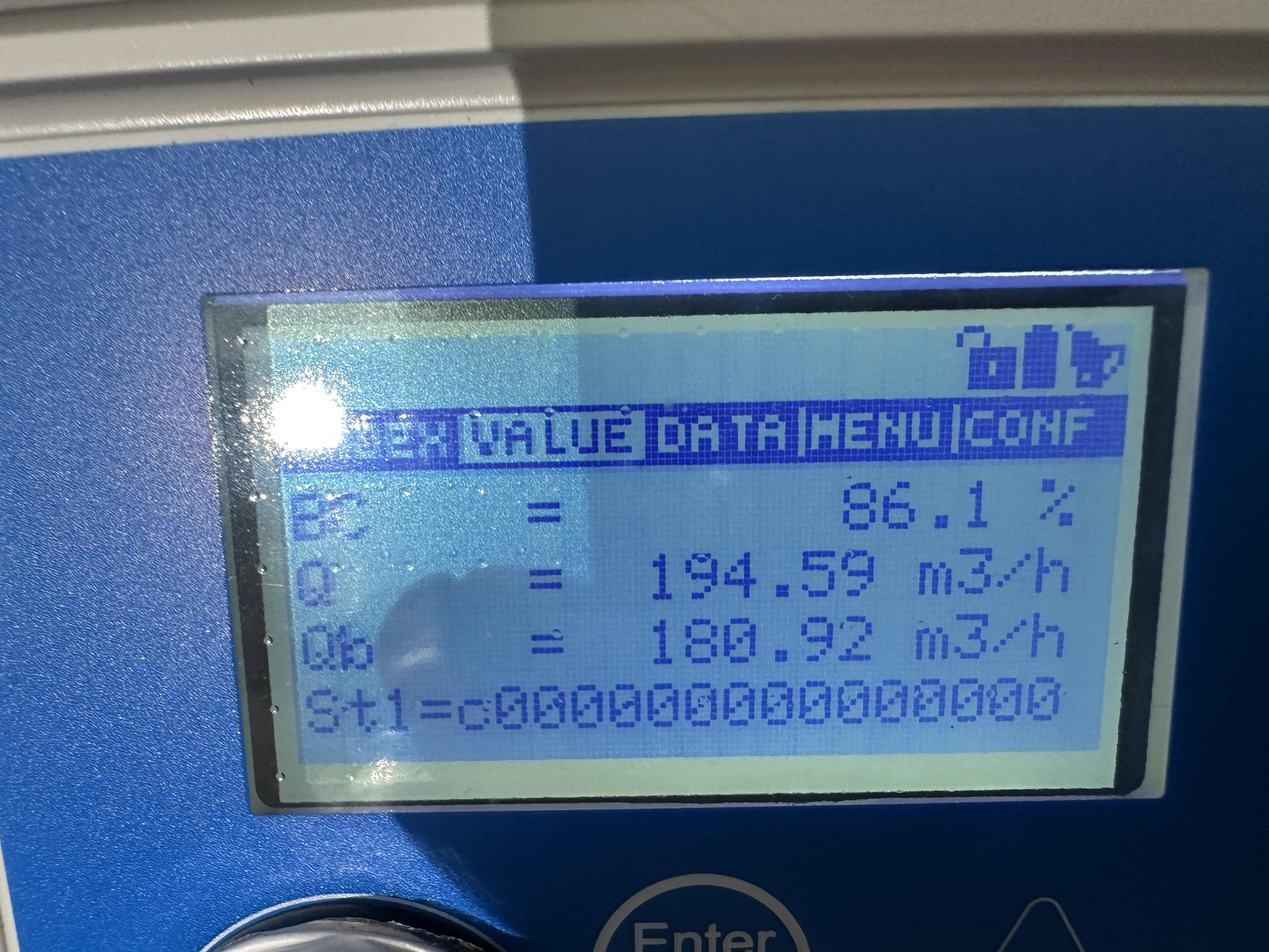digital_screen: (246, 307, 1164, 808)
